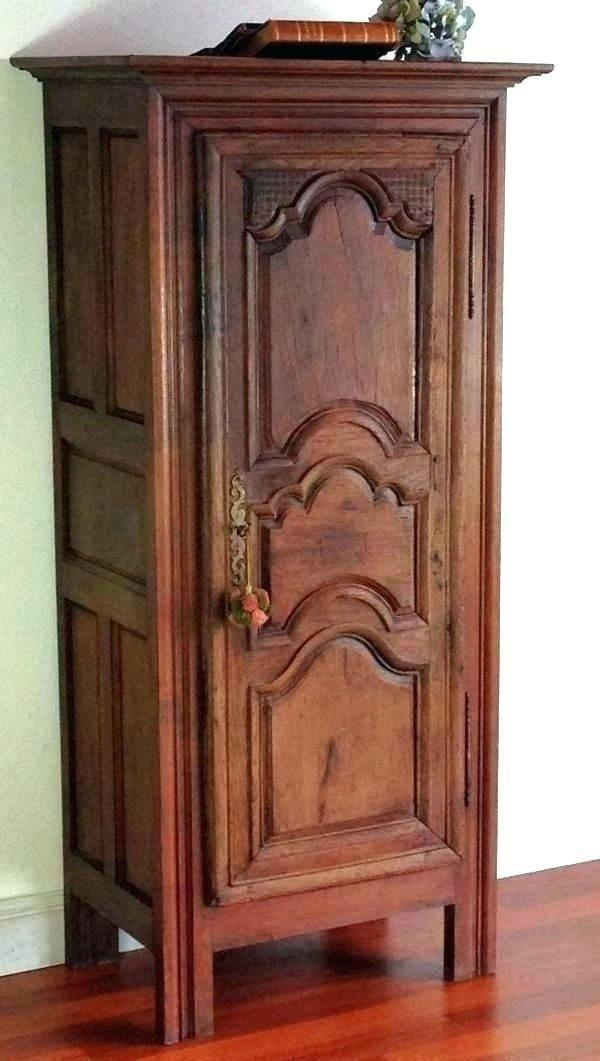Armario: (5, 29, 516, 1018)
